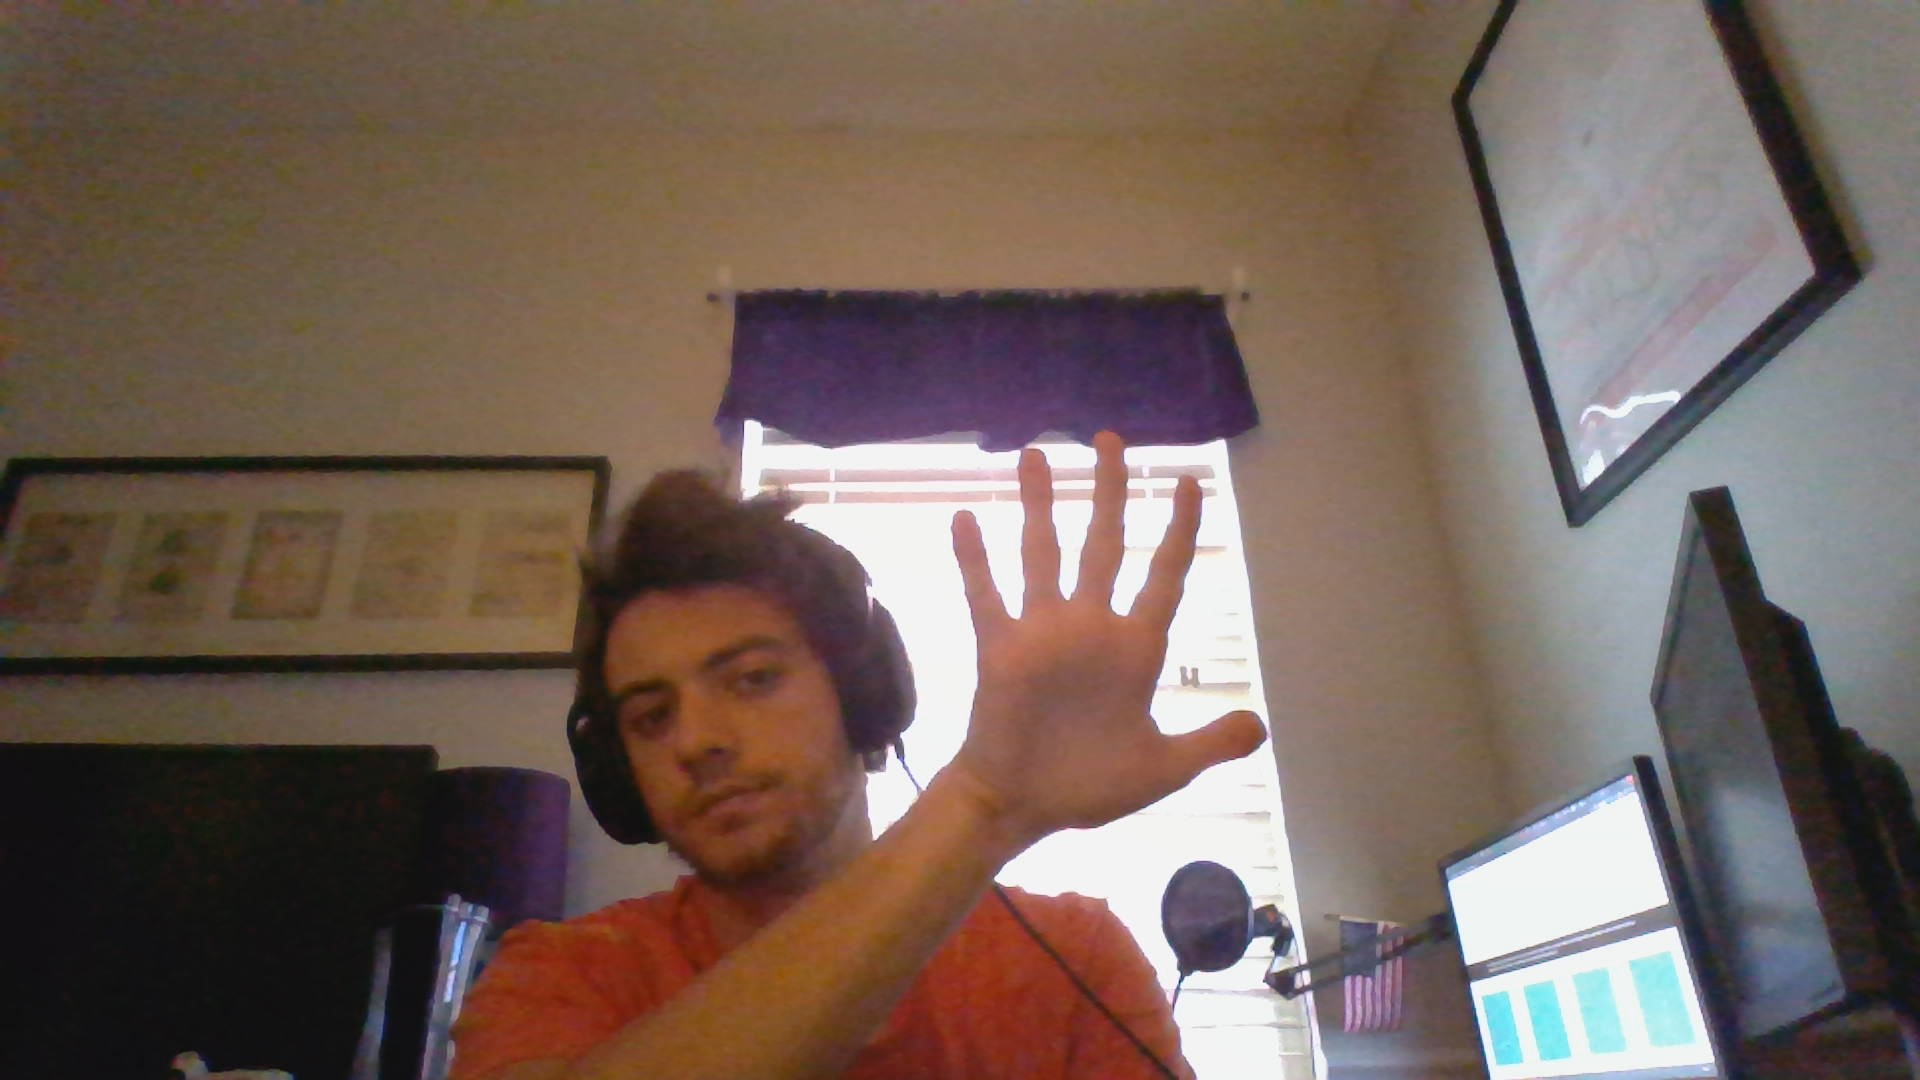Right Palm Up: (936, 425, 1273, 836)
